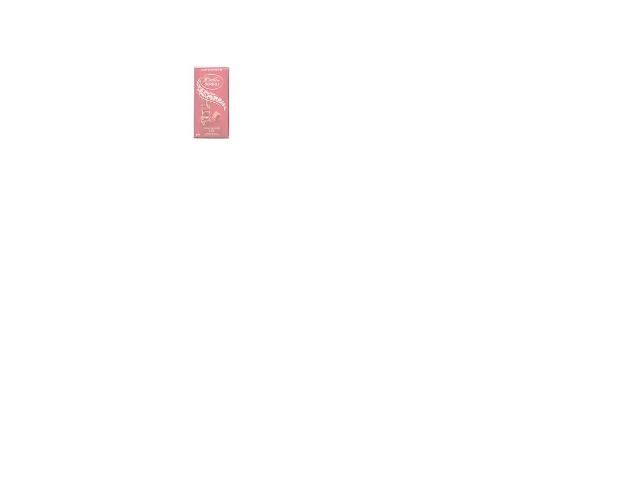chocolate: (191, 65, 230, 144)
